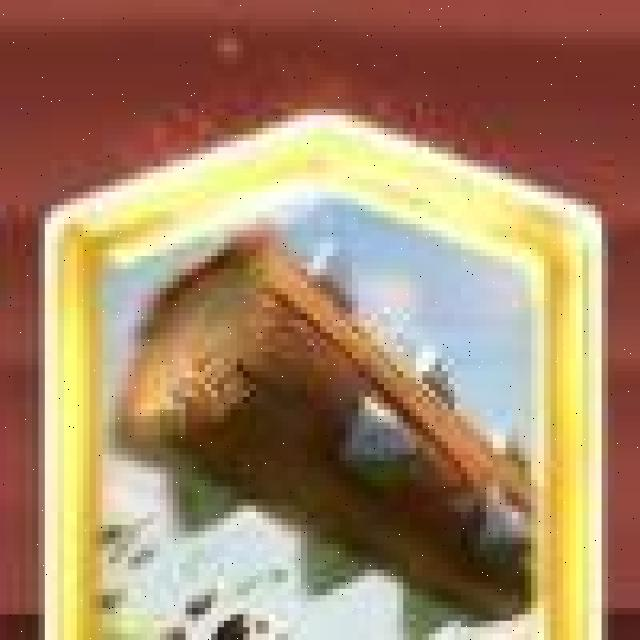Log: (34, 113, 599, 640)
